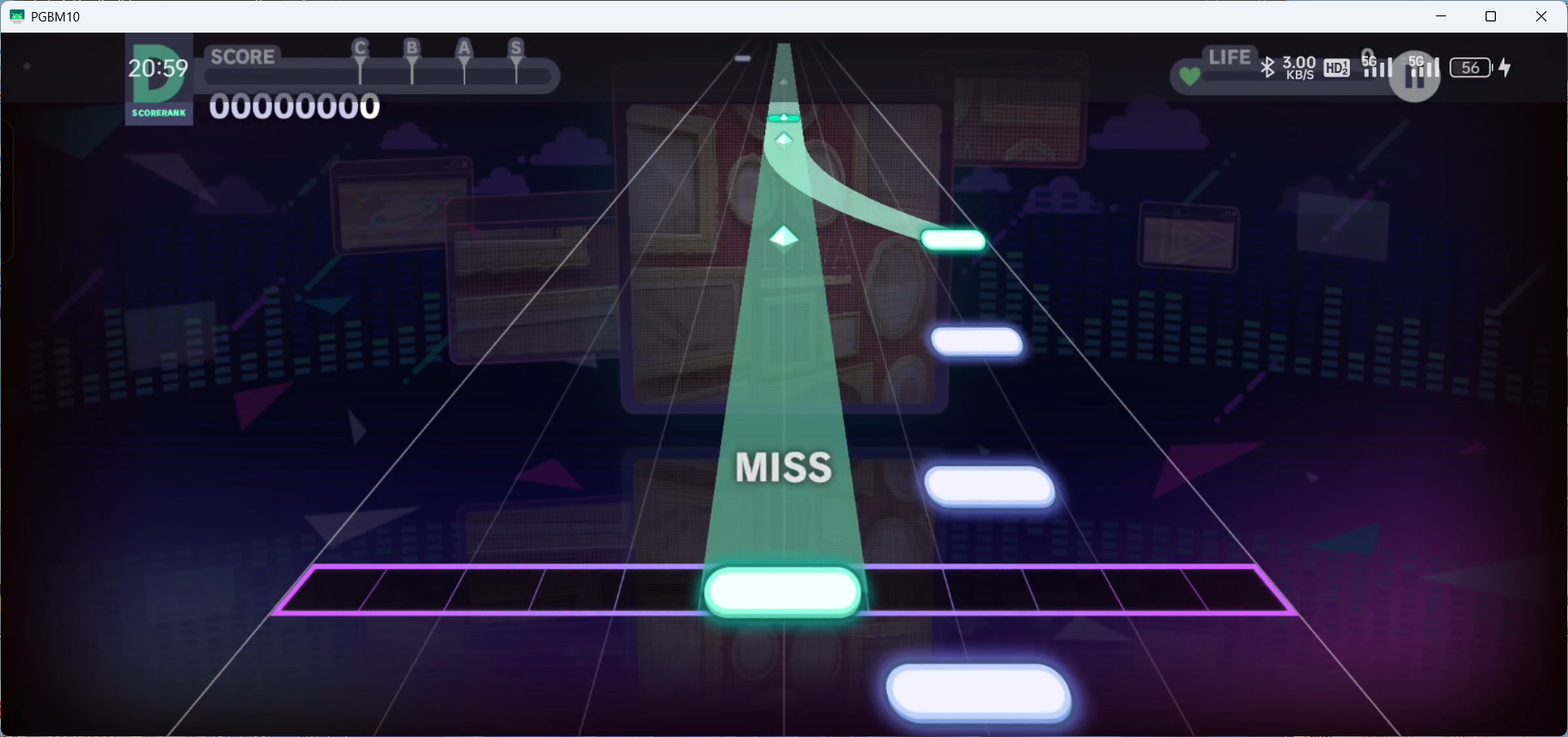hold: (707, 42, 860, 568), (767, 103, 949, 227)
sweep: (769, 224, 799, 255), (775, 131, 792, 150), (769, 113, 799, 122), (733, 55, 751, 62), (779, 78, 787, 86)
tap: (886, 665, 1071, 723), (703, 569, 860, 619), (924, 467, 1054, 508), (931, 328, 1024, 358), (918, 230, 988, 249)
